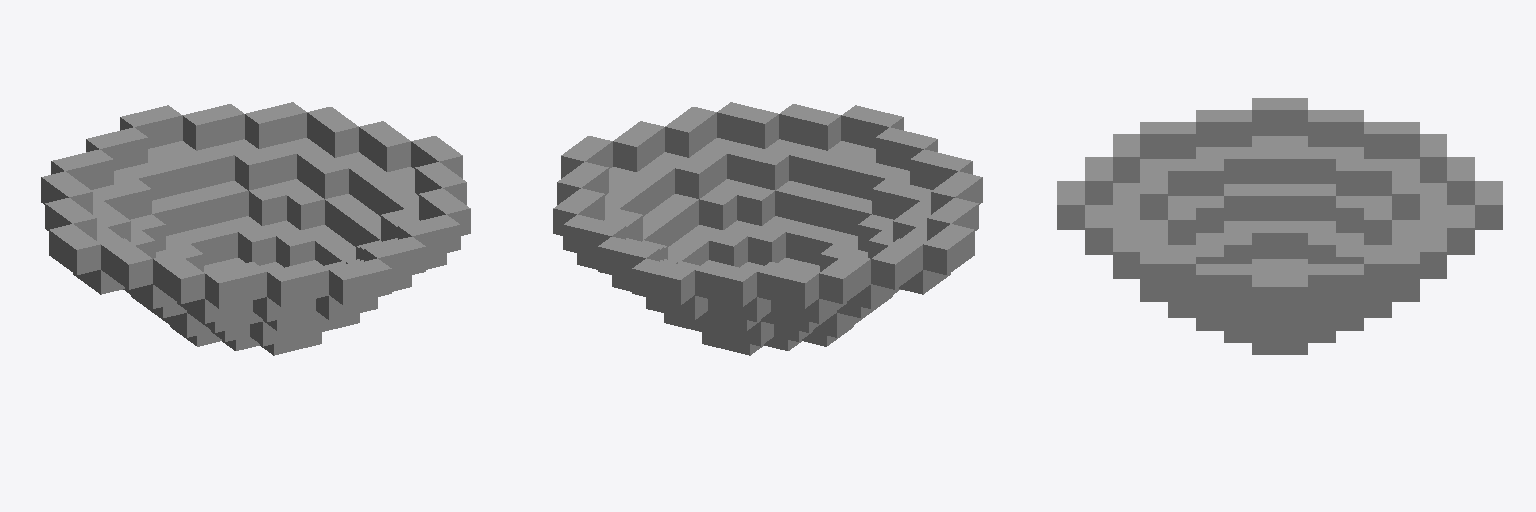
The model's file is st_bowl_inv_corr.obj.
The picture shows the model from 3 angles: view 1: azimuth 30°, elevation 25°; view 2: azimuth 150°, elevation 25°; view 3: azimuth 270°, elevation 25°; orthographic projection.
Visible parts, largest first — view 1: st_bowl_inv; view 2: st_bowl_inv; view 3: st_bowl_inv.
Boxes of the visible parts, x1=… form: st_bowl_inv: x1=41, y1=102, x2=470, y2=355; st_bowl_inv: x1=553, y1=102, x2=982, y2=355; st_bowl_inv: x1=1057, y1=98, x2=1502, y2=354.
Size of the model in its own units: 1.01 by 0.3143 by 1.01.